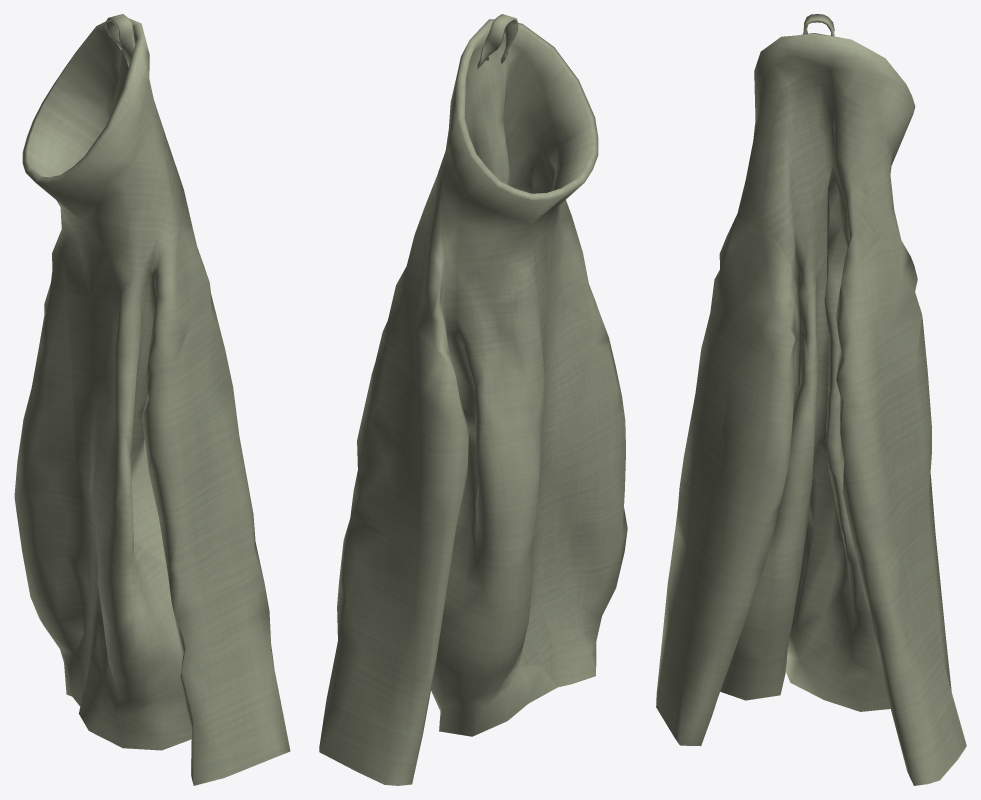
Rendered from SM_Cloth_A2.fbx.
3 views of the same model, side by side, from view 1: azimuth 30°, elevation 25°; view 2: azimuth 150°, elevation 25°; view 3: azimuth 270°, elevation 25° (orthographic). The views are drawn at different scales.
Parts seen in each view (by area): view 1: SM_Cloth_A2; view 2: SM_Cloth_A2; view 3: SM_Cloth_A2.
Part boxes in pixels (box(x1,y1,x2,y2)): SM_Cloth_A2: box(14, 14, 290, 785); SM_Cloth_A2: box(319, 14, 627, 785); SM_Cloth_A2: box(656, 14, 966, 785).
Size of the model in its own units: 27.61 by 35.77 by 90.36.
1 material, 1 textured.
